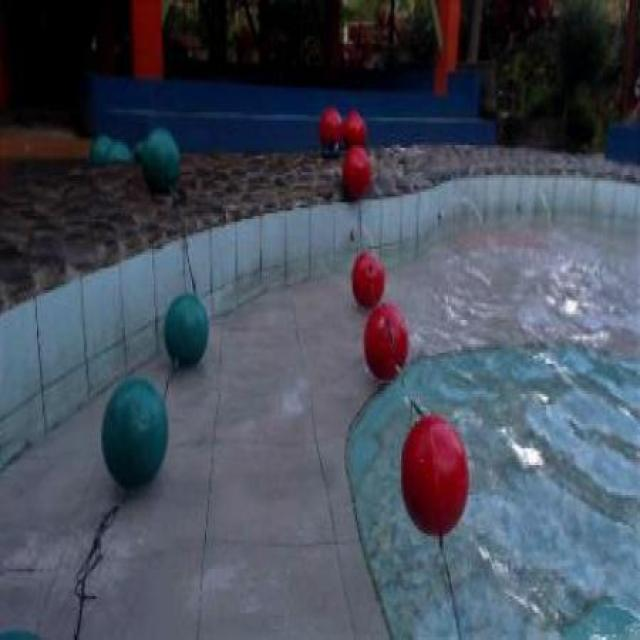buoy: (399, 414, 469, 537), (99, 378, 168, 487), (362, 299, 407, 379), (163, 293, 207, 364), (141, 127, 179, 190), (350, 250, 384, 308), (340, 142, 370, 196), (316, 106, 342, 150), (341, 112, 367, 151)
